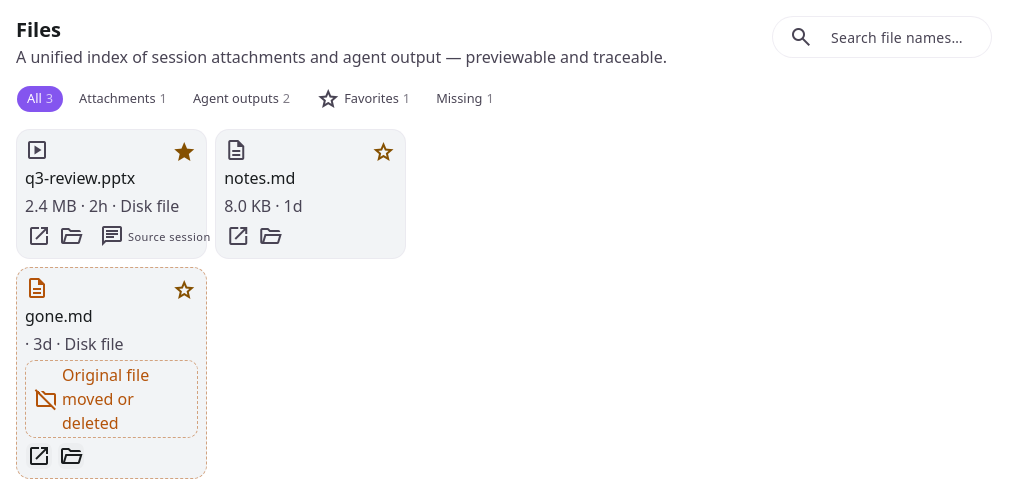
FilesPage — R2 final sweep (subtitle, search, title join) › search stacks with the lens pills (intersection, never replacement)
The image size is (1009, 496).
# 'review' matches only q3-review.pptx (a generated row).
Type "review" into the field with test id "files-search" at (898, 37), box [821,21,975,53]
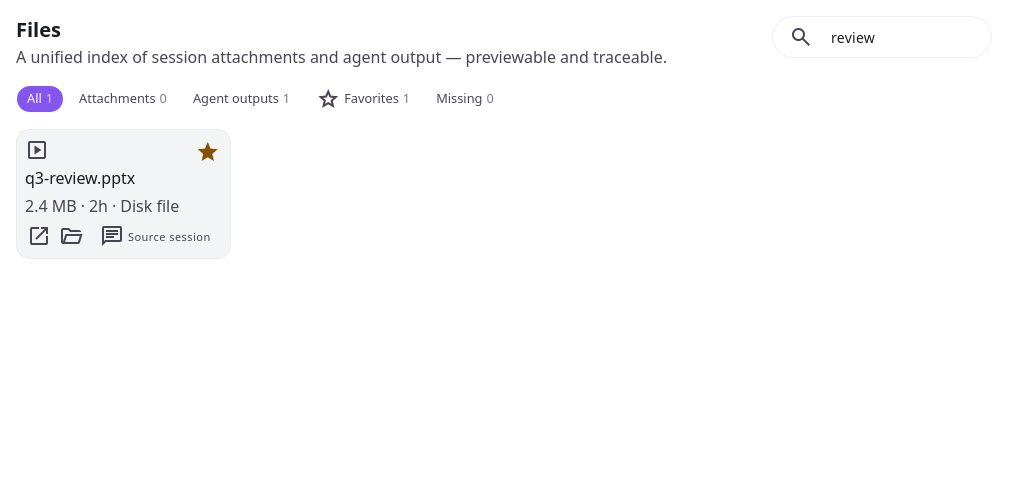
Click the button "Agent outputs 1" at (242, 99), box [182,85,301,113]
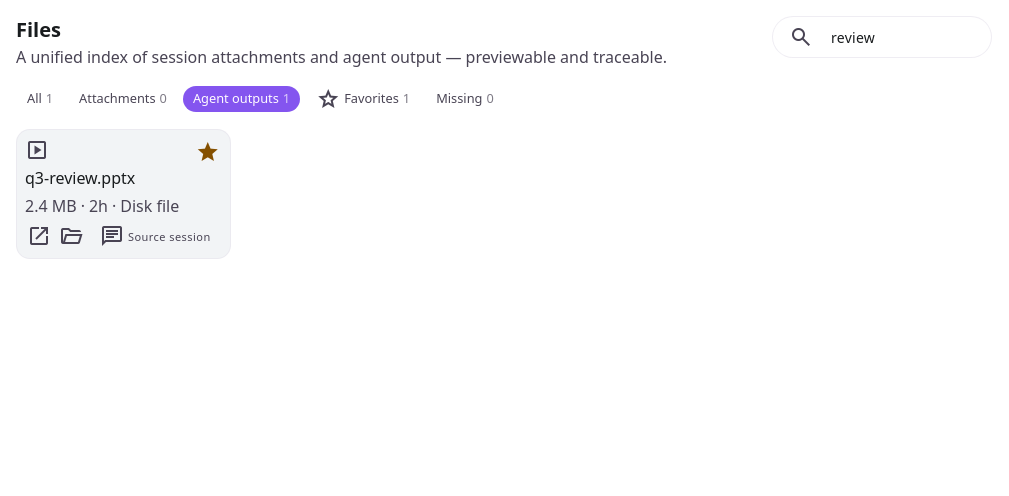
Expected: the list item with test id "files-row" shows "q3-review.pptx", [25,138,222,218]
Expected: the number of list items with test id "files-row" is 1, [16,129,231,259]
Click the button "Attachments 0" at (123, 99), box [68,85,178,113]
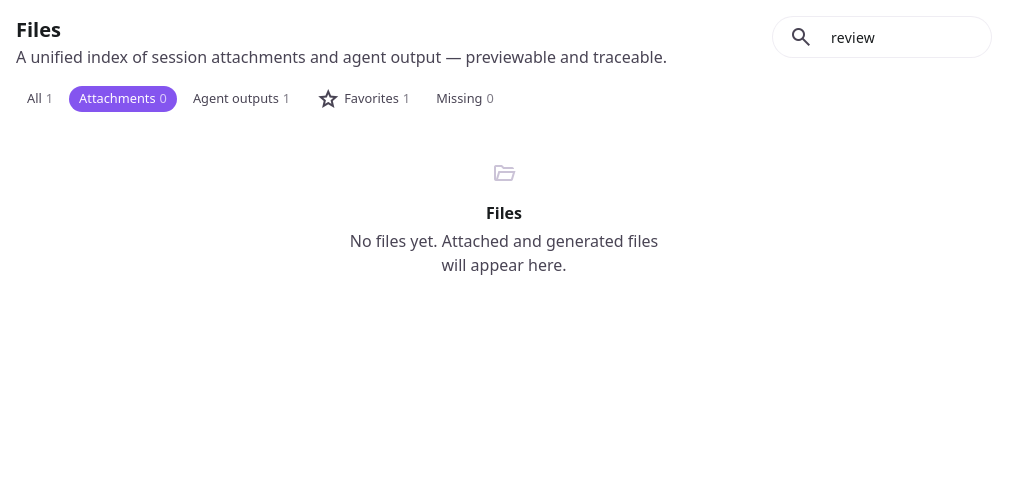
Expected: the list item with test id "files-row" is gone
Expected: the text "No files yet. Attached and generated files will appear here." is shown, [344,229,664,277]
